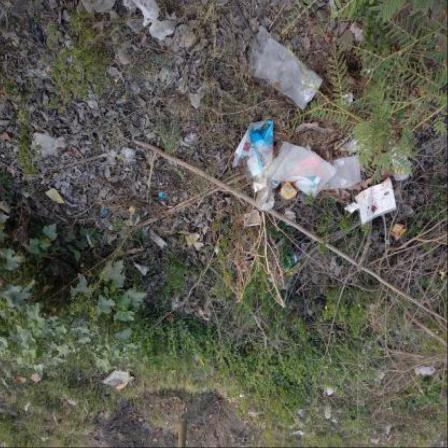Lid: (196, 354, 201, 362)
Paper: (357, 178, 399, 228)
Plastic bag - wrapper: (249, 27, 325, 111), (264, 143, 340, 200), (235, 122, 276, 182), (323, 156, 363, 192), (124, 2, 161, 28), (33, 134, 61, 156), (394, 152, 414, 182), (259, 180, 277, 212), (46, 189, 66, 205), (254, 175, 269, 195), (392, 226, 408, 244), (342, 138, 362, 152), (181, 135, 198, 151), (282, 184, 298, 200), (186, 235, 202, 249), (415, 368, 437, 378), (162, 202, 176, 210), (272, 183, 284, 191), (132, 206, 138, 214), (160, 193, 166, 199)
Plastic container: (245, 212, 263, 228)
Straw: (48, 187, 73, 207), (200, 357, 206, 367)
Styrofoam piece: (178, 29, 198, 49), (150, 231, 166, 250), (135, 263, 151, 277), (130, 210, 141, 228), (286, 209, 298, 224)
Unlabeled litter: (103, 370, 136, 394), (345, 203, 361, 215), (345, 93, 356, 105), (286, 216, 294, 228), (290, 254, 298, 265), (141, 37, 149, 45), (103, 208, 109, 217)
